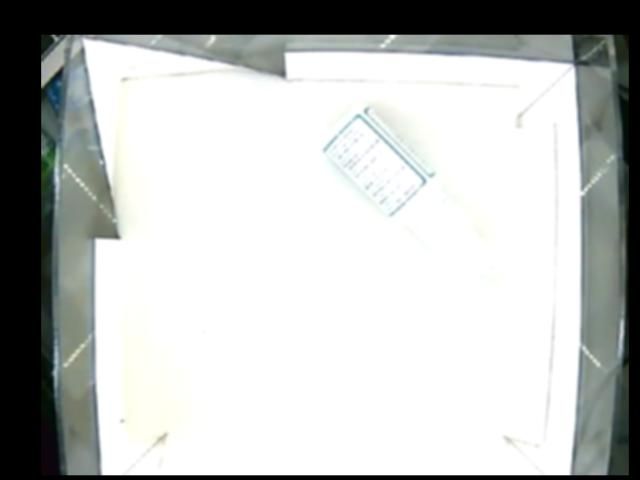Bottle: (321, 99, 503, 294)
